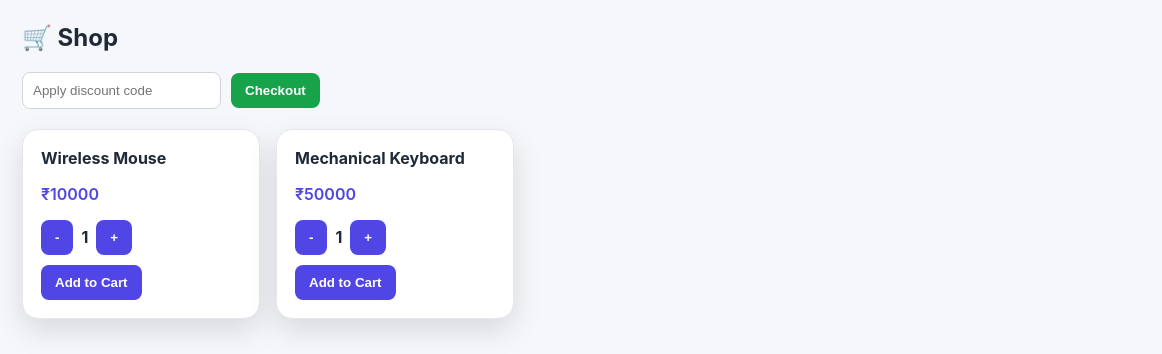
Test: Shop Page › add to cart shows toast
Expected: the heading "Wireless Mouse" is shown, [41,148,166,168]
Click the button "Add to Cart" below "10000" at (91, 282), box [41,265,142,300]
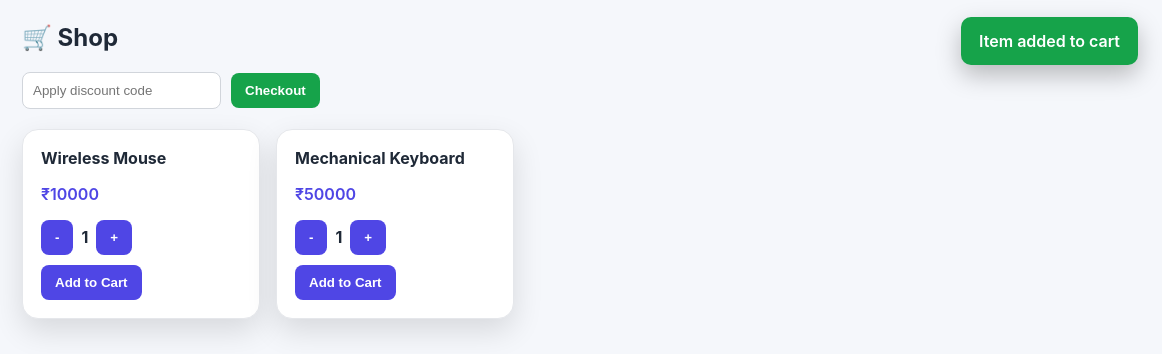
Expected: the text "Item added to cart" is shown, [961,17,1138,65]
